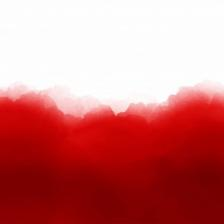red: (0, 85, 224, 224)
